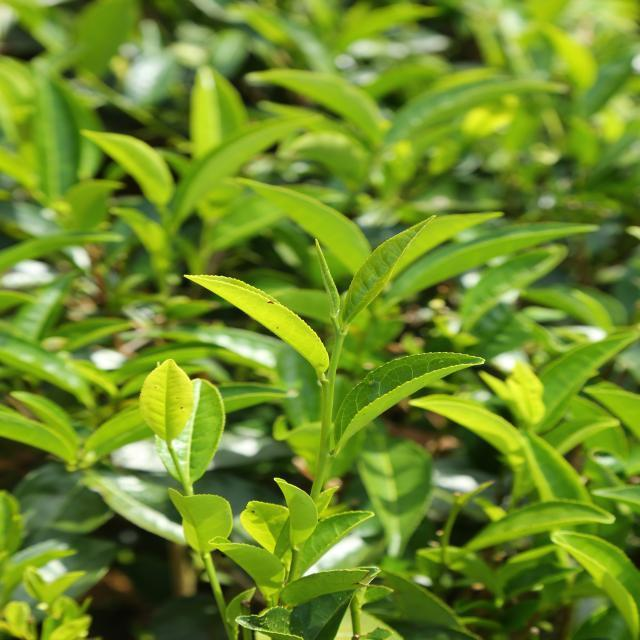Stem: (334, 334, 346, 348)
